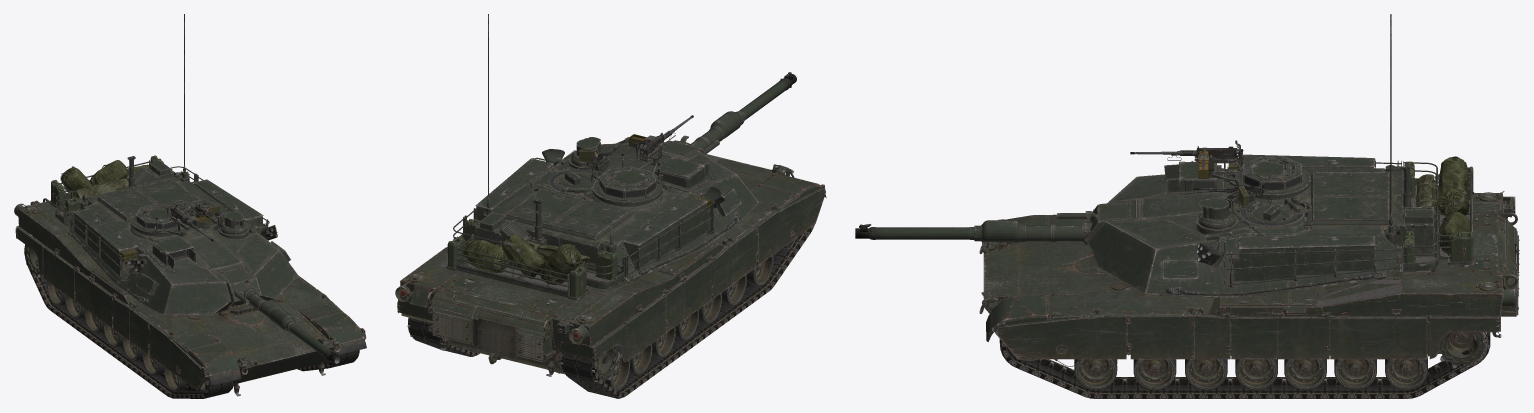
The picture shows the model from 3 angles, left to right: view 1: azimuth 30°, elevation 25°; view 2: azimuth 150°, elevation 25°; view 3: azimuth 270°, elevation 25°; orthographic projection. The views are drawn at different scales.
Parts seen in each view (by area): view 1: vehicle#bone_turret_21, vehicle#root_0, vehicle#track_r_101, vehicle#ex_armor_r_09_35, vehicle#ex_armor_r_01_64, vehicle#ex_decor_r_01_72, vehicle#gun_barrel_38, vehicle#ex_decor_l_01_74, vehicle#ex_armor_r_06_69, vehicle#ex_armor_l_09_33, vehicle#bone_gun_37, vehicle#ex_armor_01_29 (+22 smaller); view 2: vehicle#bone_turret_21, vehicle#root_0, vehicle#track_r_101, vehicle#hatch_14_90, vehicle#ex_armor_r_09_35, vehicle#ex_armor_r_01_64, vehicle#hatch_13_89, vehicle#gun_barrel_38, vehicle#ex_armor_r_06_69, vehicle#ex_armor_02_30, vehicle#ex_armor_l_09_33, vehicle#ex_armor_01_29 (+35 smaller); view 3: vehicle#bone_turret_21, vehicle#root_0, vehicle#track_l_102, vehicle#ex_armor_l_09_33, vehicle#ex_armor_l_01_49, vehicle#ex_armor_l_06_62, vehicle#gun_barrel_38, vehicle#ex_armor_l_02_50, vehicle#ex_armor_l_05_61, vehicle#ex_armor_l_04_52, vehicle#ex_armor_01_29, vehicle#ex_armor_02_30 (+27 smaller).
Boxes of the visible parts, bbox=[...] form: vehicle#bone_turret_21: bbox=[49, 156, 298, 314]; vehicle#root_0: bbox=[18, 171, 341, 396]; vehicle#track_r_101: bbox=[24, 236, 234, 398]; vehicle#ex_armor_r_09_35: bbox=[74, 209, 137, 275]; vehicle#ex_armor_r_01_64: bbox=[149, 322, 207, 390]; vehicle#ex_decor_r_01_72: bbox=[186, 339, 241, 385]; vehicle#gun_barrel_38: bbox=[243, 287, 340, 364]; vehicle#ex_decor_l_01_74: bbox=[309, 308, 366, 355]; vehicle#ex_armor_r_06_69: bbox=[42, 246, 76, 300]; vehicle#ex_armor_l_09_33: bbox=[194, 179, 266, 229]; vehicle#bone_gun_37: bbox=[215, 264, 261, 306]; vehicle#ex_armor_01_29: bbox=[136, 179, 200, 206]; vehicle#bone_turret_21: bbox=[445, 142, 758, 300]; vehicle#root_0: bbox=[400, 140, 797, 376]; vehicle#track_r_101: bbox=[561, 197, 814, 398]; vehicle#hatch_14_90: bbox=[471, 305, 551, 362]; vehicle#ex_armor_r_09_35: bbox=[622, 196, 710, 267]; vehicle#ex_armor_r_01_64: bbox=[753, 184, 825, 265]; vehicle#hatch_13_89: bbox=[428, 295, 476, 346]; vehicle#gun_barrel_38: bbox=[689, 72, 796, 149]; vehicle#ex_armor_r_06_69: bbox=[624, 293, 666, 361]; vehicle#ex_armor_02_30: bbox=[552, 200, 630, 236]; vehicle#ex_armor_l_09_33: bbox=[475, 158, 553, 220]; vehicle#ex_armor_01_29: bbox=[506, 189, 583, 225]; vehicle#bone_turret_21: bbox=[1089, 156, 1474, 297]; vehicle#root_0: bbox=[979, 191, 1517, 355]; vehicle#track_l_102: bbox=[999, 314, 1490, 398]; vehicle#ex_armor_l_09_33: bbox=[1227, 236, 1379, 281]; vehicle#ex_armor_l_01_49: bbox=[995, 308, 1130, 366]; vehicle#ex_armor_l_06_62: bbox=[1325, 312, 1429, 359]; vehicle#gun_barrel_38: bbox=[855, 220, 1092, 244]; vehicle#ex_armor_l_02_50: bbox=[1127, 306, 1193, 359]; vehicle#ex_armor_l_05_61: bbox=[1277, 312, 1329, 359]; vehicle#ex_armor_l_04_52: bbox=[1226, 312, 1277, 359]; vehicle#ex_armor_01_29: bbox=[1313, 197, 1388, 220]; vehicle#ex_armor_02_30: bbox=[1313, 172, 1388, 195].
Bounding box in the file's own units: 3.68 × 5.99 × 9.81.
25 materials, 25 textured.
